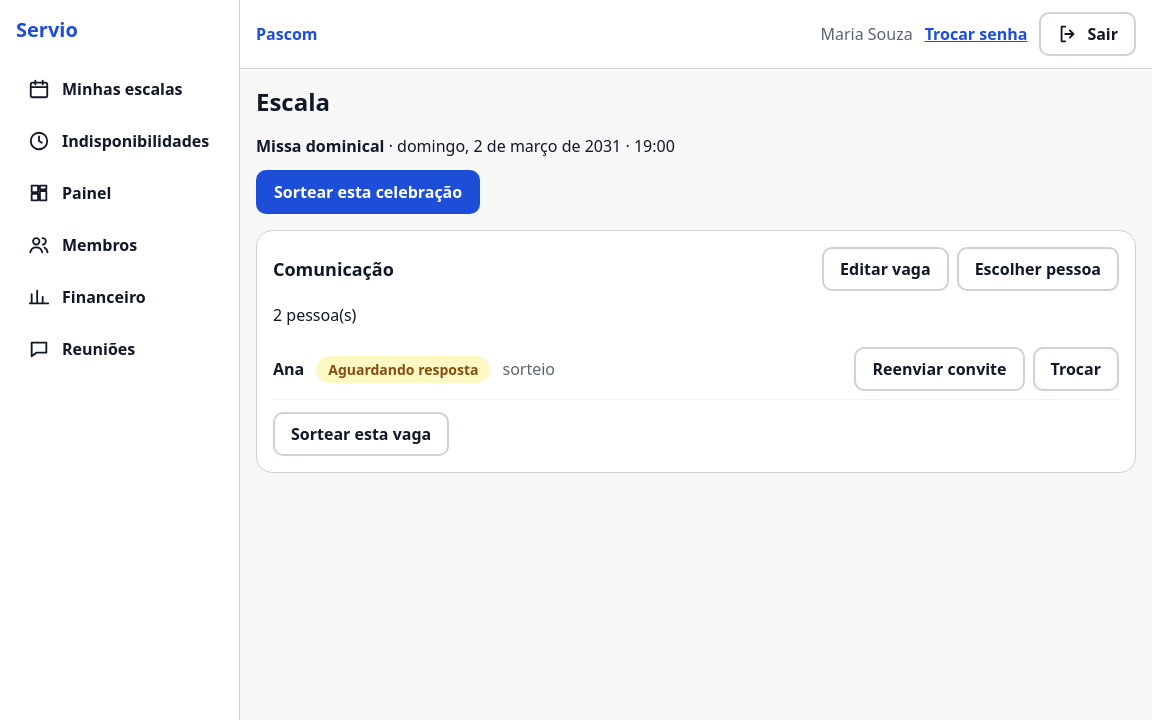
Test: Escala da celebração › vice não vê "Escalar mesmo assim" e a pessoa impedida fica sem o botão
The image size is (1152, 720).
Click the button "Escolher pessoa" at (1038, 269), box x1=957 y1=247 x2=1119 y2=291
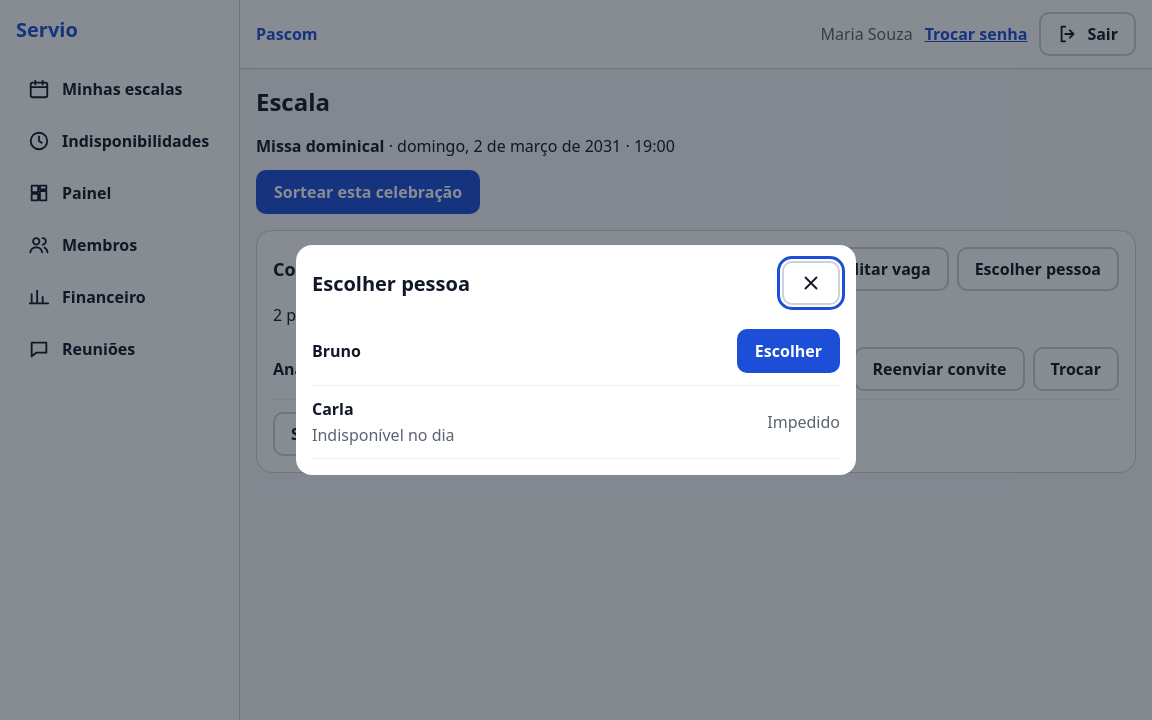
Result: the text "Indisponível no dia" is shown at x1=312 y1=424 x2=455 y2=446
Result: the button "Escolher" is shown at x1=737 y1=329 x2=840 y2=373
